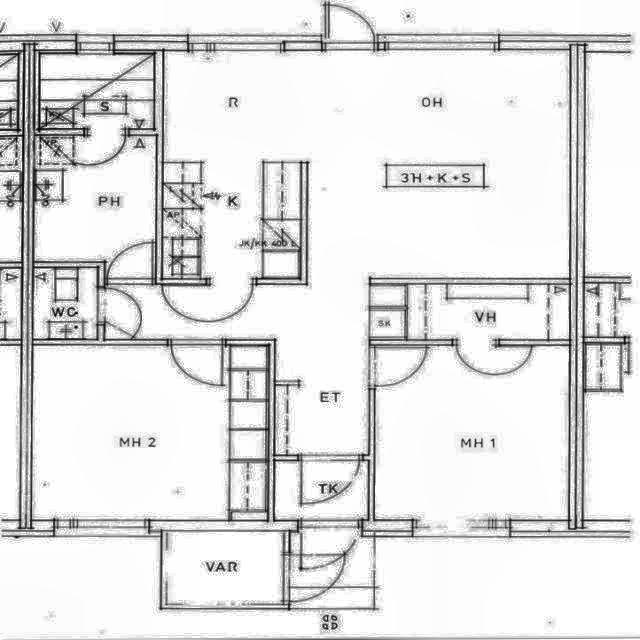room: (34, 346, 267, 520), (375, 346, 569, 520), (35, 136, 155, 278), (371, 284, 569, 339), (168, 532, 283, 604), (40, 55, 153, 128), (275, 461, 368, 519), (34, 269, 96, 339)
